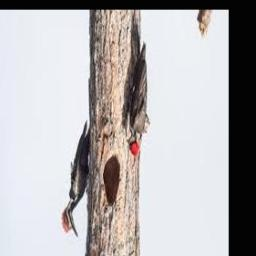Woodpecker: (61, 122, 90, 240), (126, 11, 148, 156)
